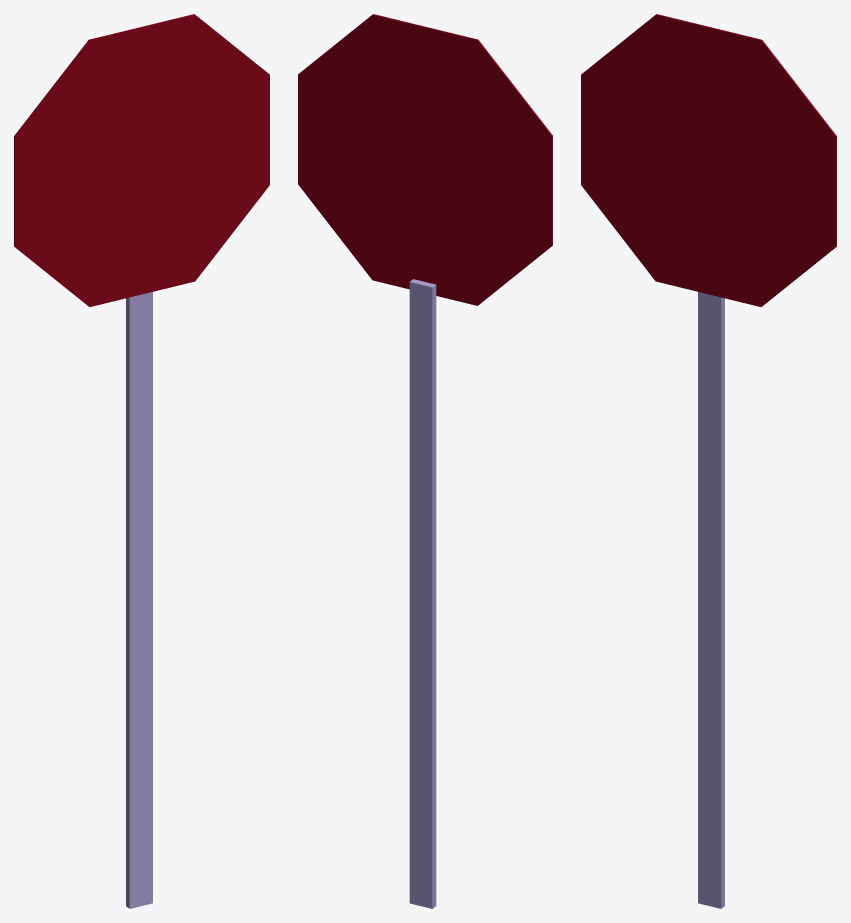
The model's file is stop_sign_0.glb.
The picture shows the model from 3 angles, left to right: view 1: azimuth 30°, elevation 25°; view 2: azimuth 150°, elevation 25°; view 3: azimuth 330°, elevation 25°; orthographic projection.
Visible parts, largest first — view 1: Cube; view 2: Cube; view 3: Cube.
Part boxes in pixels (x1,y1,x2,y2): Cube: (14,14,269,908); Cube: (298,14,552,908); Cube: (581,14,836,908).
Size of the model in its own units: 0.7041 by 2.32 by 0.0238.
